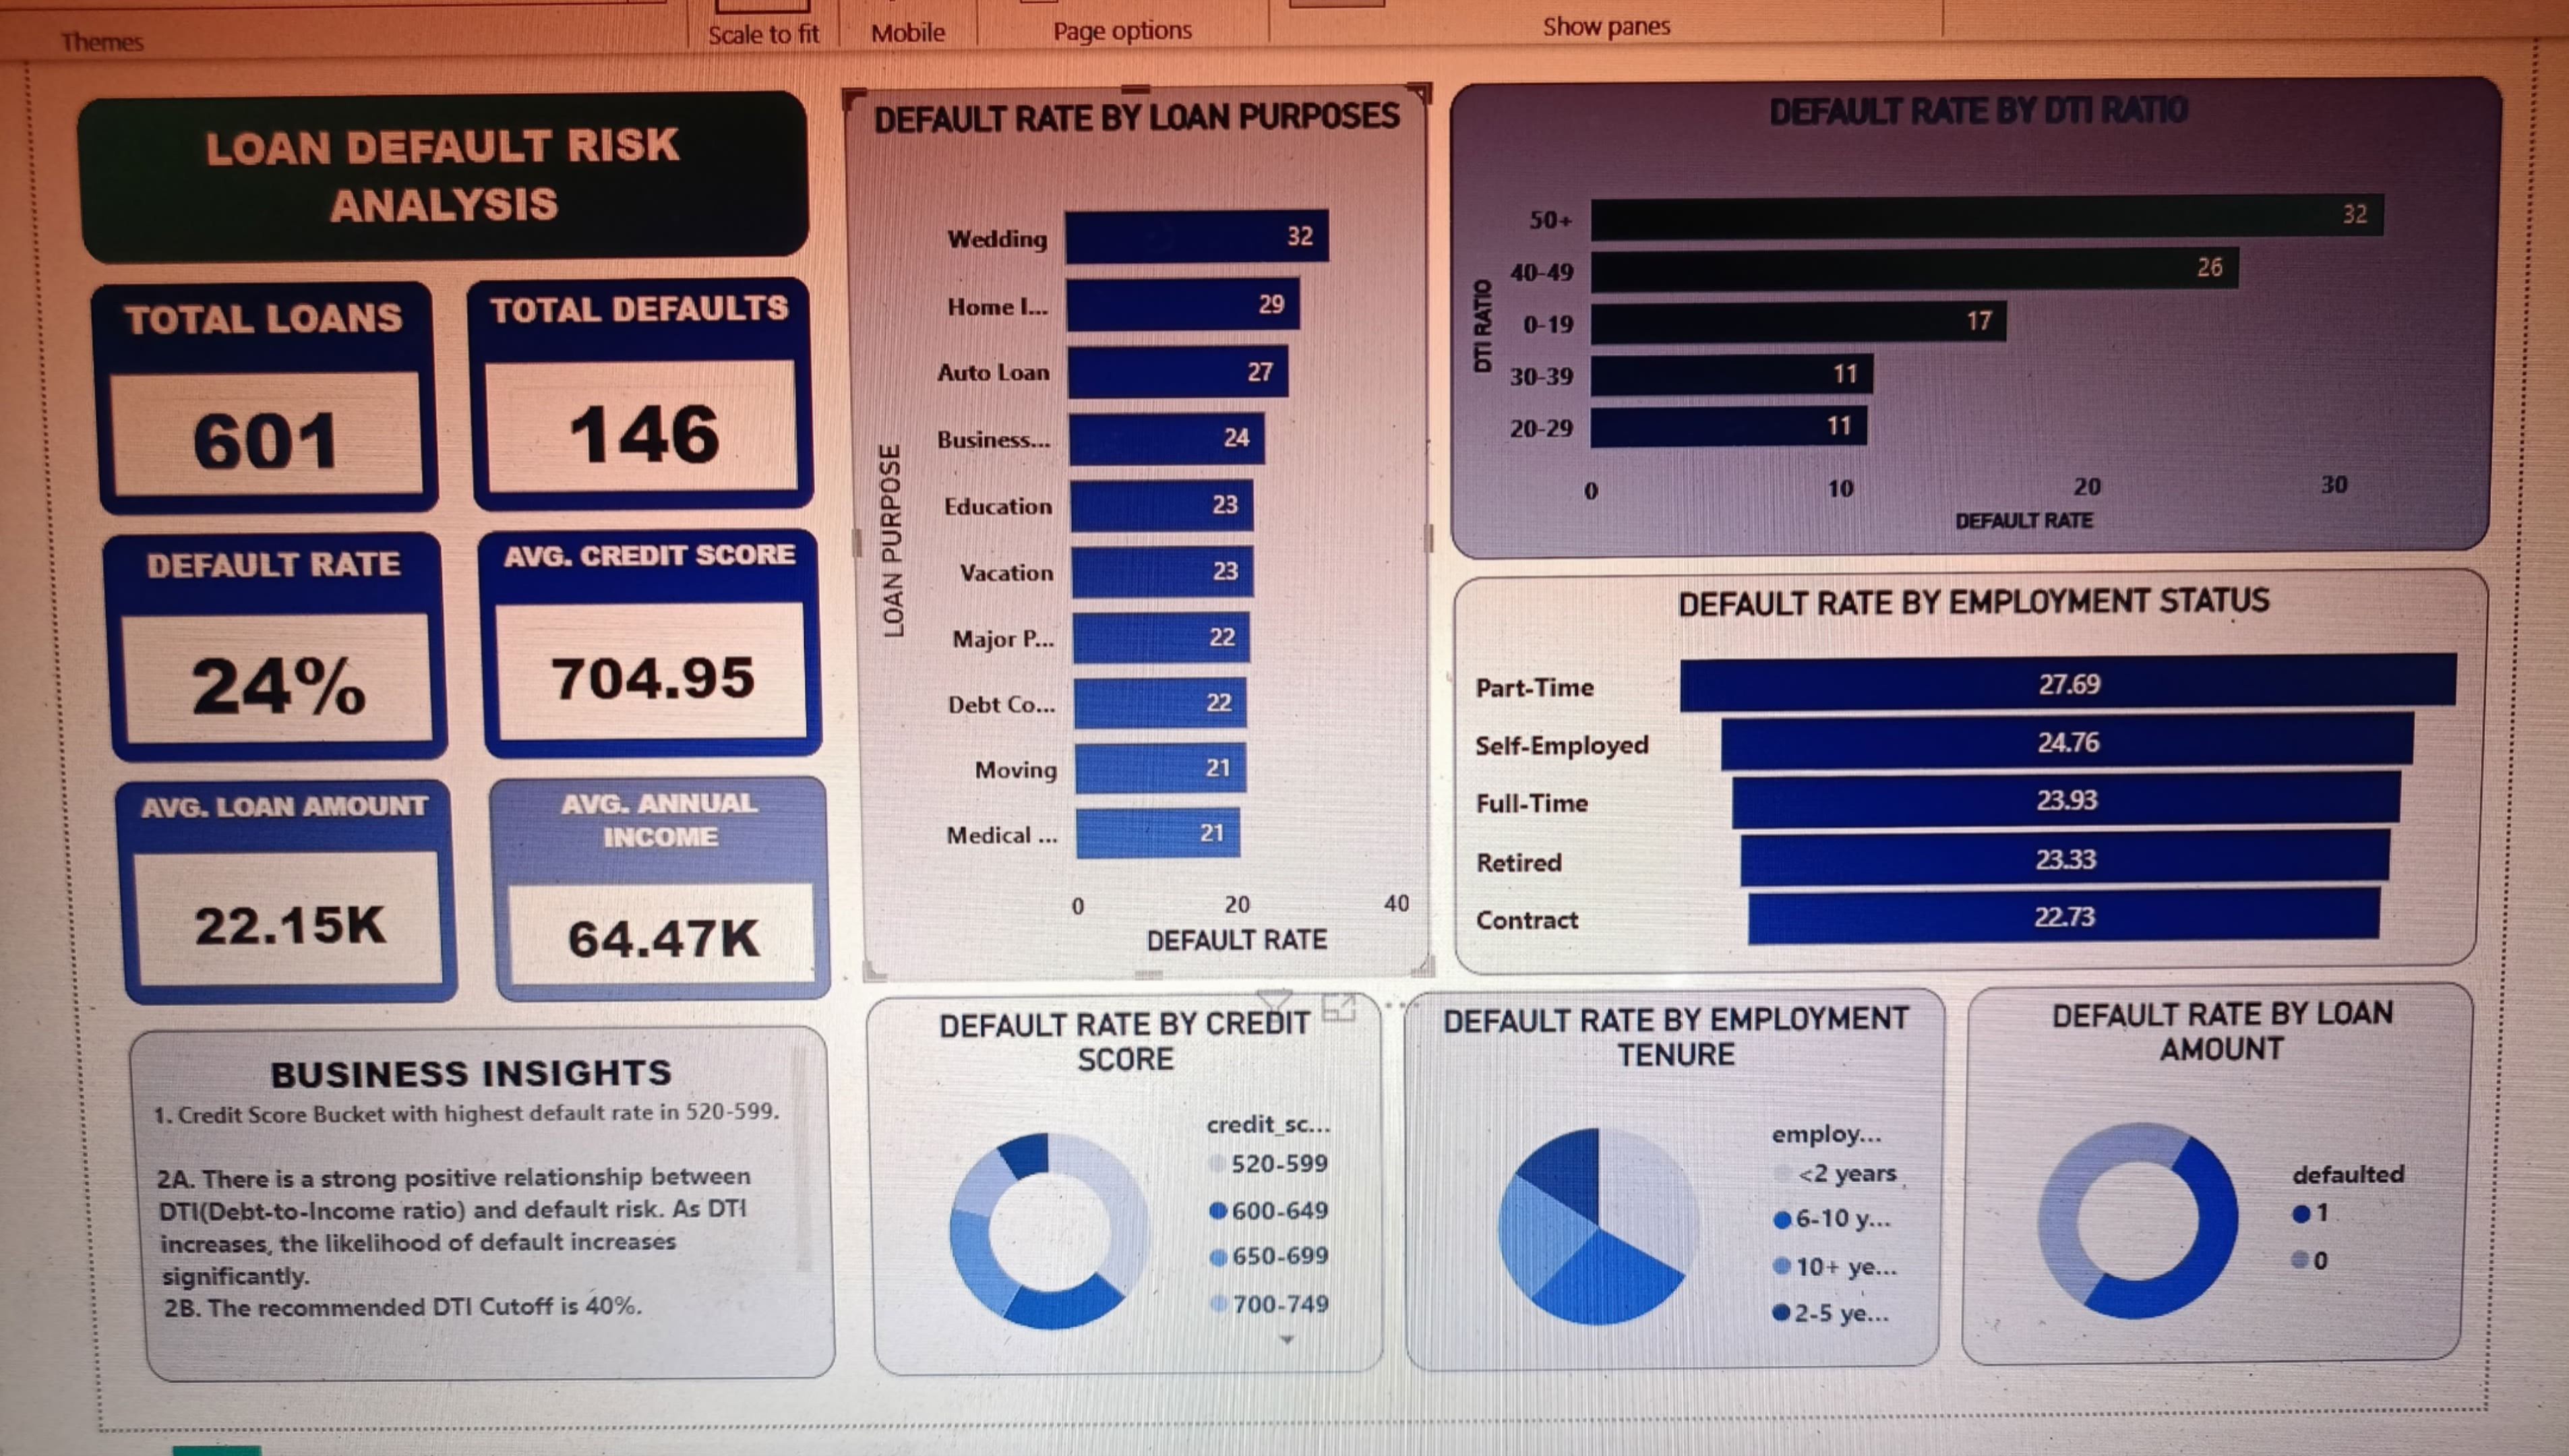

What the dashboard file says about the page in this screenshot:
{"tool":"powerbi","page":{"name":"Page 1","canvas":[1280,720],"ordinal":0},"visuals":[{"type":"textbox","box":[23.3,19.2,374.6,83.7],"z":0},{"type":"textbox","box":[10,290,280,280],"z":1000},{"type":"cardVisual","title":"TOTAL LOANS","fields":{"Data":["Count(loan_applications.loan_id)"]},"box":[26.1,113.9,177,118],"z":2000},{"type":"cardVisual","title":"TOTAL DEFAULTS","fields":{"Data":["Sum(loan_applications.defaulted)"]},"box":[219.6,113.9,177,118],"z":3000},{"type":"cardVisual","title":"DEFAULT RATE","fields":{"Data":["loan_applications.DEFAULT RATE"]},"box":[26.1,241.5,177,118],"z":4000},{"type":"cardVisual","title":"AVG. CREDIT SCORE","fields":{"Data":["Avg(borrower_profiles.credit_score)"]},"box":[220.9,241.5,177,118],"z":5000},{"type":"cardVisual","title":"AVG. LOAN AMOUNT","fields":{"Data":["Avg(loan_applications.loan_amount)"]},"box":[26.1,370.5,177,118],"z":6000},{"type":"cardVisual","title":"AVG. ANNUAL INCOME","fields":{"Data":["Avg(borrower_profiles.annual_income)"]},"box":[222.3,370.5,177,118],"z":7000},{"type":"barChart","title":"DEFAULT RATE BY LOAN PURPOSES","fields":{"Y":["Sum(default rate by loan_purposes.default_percent)"],"Category":["default rate by loan_purposes.loan_purpose"]},"box":[417.2,19.2,297.8,459.7],"z":8000},{"type":"barChart","title":"DEFAULT RATE BY DTI RATIO","fields":{"Y":["Sum(default rate by dti_ratio.default_percent)"],"Category":["default rate by dti_ratio.dti_ratio_bucket"]},"box":[725.9,19.2,539.3,241.5],"z":9000},{"type":"funnel","title":"DEFAULT RATE BY EMPLOYMENT STATUS","fields":{"Y":["Sum(default rate by employment_status.default_percent)"],"Category":["default rate by employment_status.employment_status"]},"box":[727.3,270.3,539.3,208.6],"z":10000},{"type":"donutChart","title":"DEFAULT RATE BY CREDIT SCORE","fields":{"Y":["Sum(default rate by credit_score_bucket.default_percent)"],"Category":["default rate by credit_score_bucket.credit_score_bucket"]},"box":[417.2,488.5,271.7,205.8],"z":11000},{"type":"pieChart","title":"DEFAULT RATE BY EMPLOYMENT TENURE","fields":{"Category":["default rate by employment_tenure.employment_tenure"],"Y":["Sum(default rate by employment_tenure.default_percent)"]},"box":[701.2,488.5,285.4,205.8],"z":12000},{"type":"donutChart","title":"DEFAULT RATE BY LOAN AMOUNT","fields":{"Y":["Sum(default by loan_amount.avg_loan_amount)"],"Category":["default by loan_amount.defaulted"]},"box":[997.6,488.5,269,205.8],"z":12001},{"type":"textbox","box":[26.1,502.2,370.5,192.1],"z":12002}]}

Visuals, with their boxes in screenshot pixels (x1, y1, x2, y2):
textbox: rect(98, 90, 813, 250)
textbox: rect(73, 607, 607, 1142)
"TOTAL LOANS" cardVisual: rect(103, 271, 442, 496)
"TOTAL DEFAULTS" cardVisual: rect(473, 271, 811, 496)
"DEFAULT RATE" cardVisual: rect(103, 514, 442, 740)
"AVG. CREDIT SCORE" cardVisual: rect(475, 514, 813, 740)
"AVG. LOAN AMOUNT" cardVisual: rect(103, 761, 442, 986)
"AVG. ANNUAL INCOME" cardVisual: rect(478, 761, 816, 986)
"DEFAULT RATE BY LOAN PURPOSES" barChart: rect(850, 90, 1418, 968)
"DEFAULT RATE BY DTI RATIO" barChart: rect(1439, 90, 2469, 551)
"DEFAULT RATE BY EMPLOYMENT STATUS" funnel: rect(1442, 570, 2472, 968)
"DEFAULT RATE BY CREDIT SCORE" donutChart: rect(850, 986, 1368, 1379)
"DEFAULT RATE BY EMPLOYMENT TENURE" pieChart: rect(1392, 986, 1937, 1379)
"DEFAULT RATE BY LOAN AMOUNT" donutChart: rect(1958, 986, 2472, 1379)
textbox: rect(103, 1012, 811, 1379)
